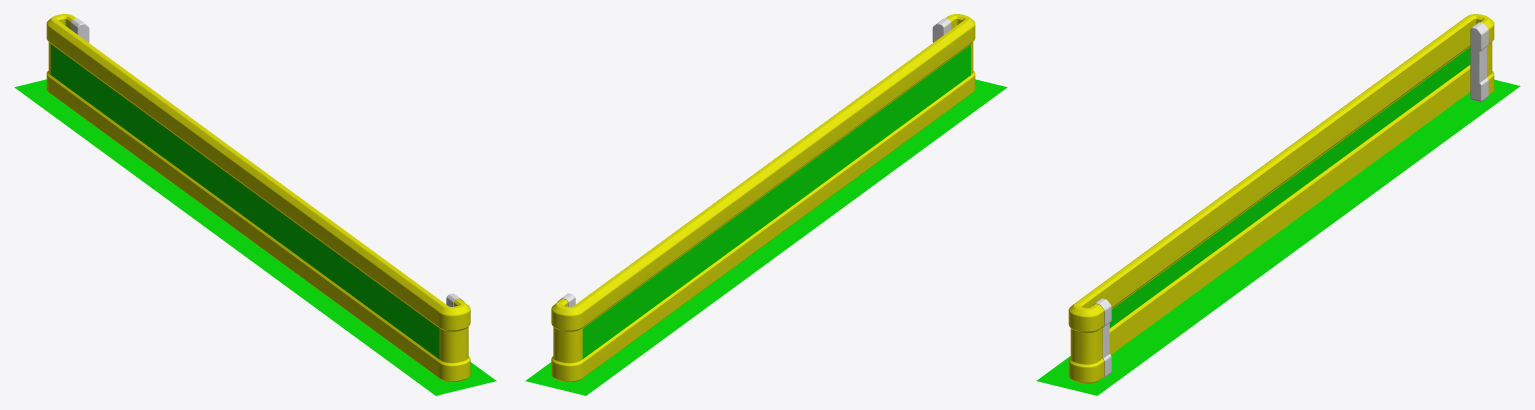
File: walkway_Fence.fbx
The picture shows the model from 3 angles, left to right: view 1: azimuth 30°, elevation 25°; view 2: azimuth 150°, elevation 25°; view 3: azimuth 330°, elevation 25°; orthographic projection.
Visible parts, largest first — view 1: fence, decal_sticker, shdw_decal, lids; view 2: fence, decal_sticker, shdw_decal, lids; view 3: fence, shdw_decal, decal_sticker, lids.
Boxes of the visible parts, box(x1,y1,x2,y2) form: fence: box(46, 14, 470, 382); decal_sticker: box(51, 44, 439, 358); shdw_decal: box(14, 79, 496, 395); lids: box(70, 18, 464, 306); fence: box(551, 14, 975, 382); decal_sticker: box(582, 44, 970, 358); shdw_decal: box(525, 79, 1007, 395); lids: box(557, 18, 951, 306); fence: box(1068, 14, 1494, 383); shdw_decal: box(1036, 79, 1520, 395); decal_sticker: box(1109, 47, 1470, 328); lids: box(1093, 22, 1488, 377).
Size of the model in its own units: 27.1 by 30.87 by 324.
